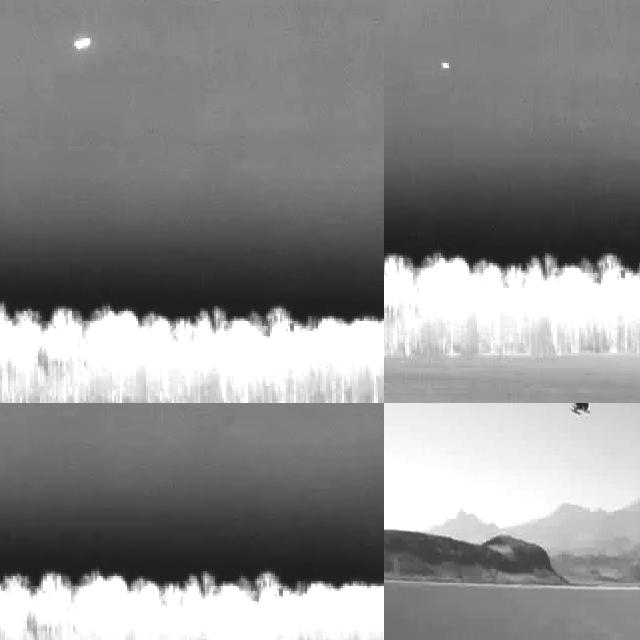1: (63, 31, 99, 63), (427, 54, 455, 82)
drone: (550, 403, 609, 423)
